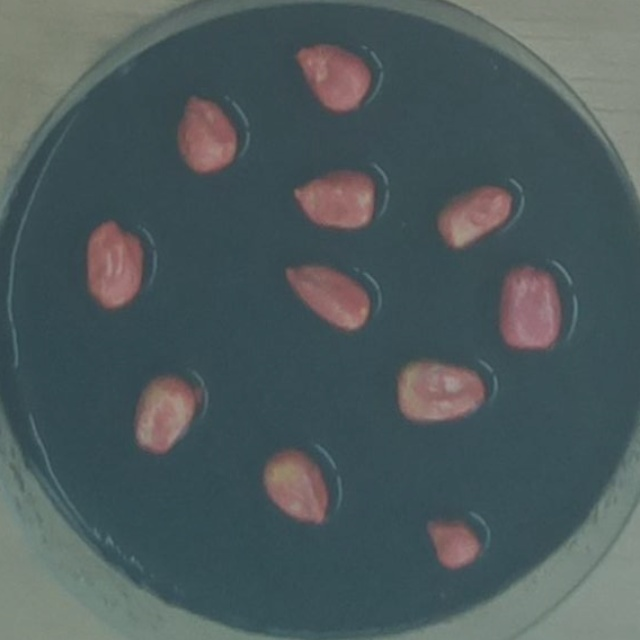Zea mays: (271, 252, 376, 340), (386, 348, 495, 429), (287, 31, 379, 117), (281, 160, 386, 235), (490, 253, 566, 356), (427, 172, 520, 254), (78, 210, 152, 313), (122, 365, 203, 458), (254, 438, 336, 528), (169, 82, 244, 180), (416, 507, 488, 574)
